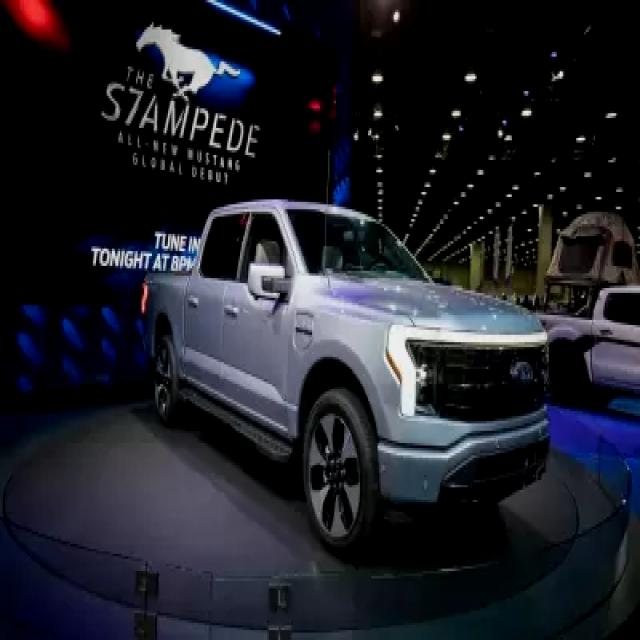CMT: (145, 196, 554, 551)
